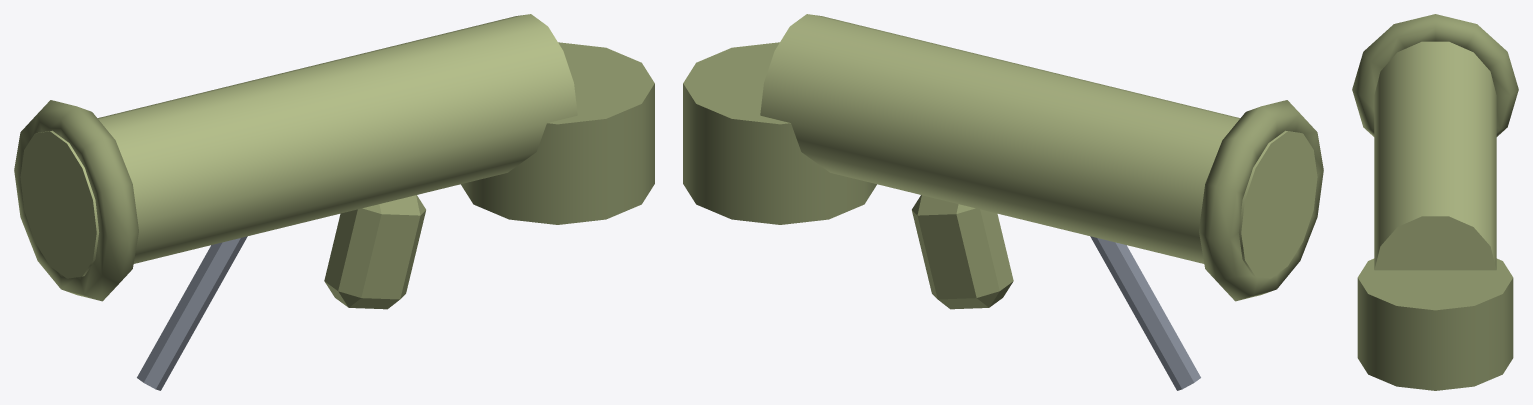
The model's file is Mortar.fbx.
3 views of the same model, side by side, from view 1: azimuth 30°, elevation 25°; view 2: azimuth 150°, elevation 25°; view 3: azimuth 270°, elevation 25° (orthographic). The views are drawn at different scales.
Visible parts, largest first — view 1: Mortar; view 2: Mortar; view 3: Mortar.
Boxes of the visible parts, box(x1,y1,x2,y2) form: Mortar: box(14, 14, 654, 390); Mortar: box(683, 14, 1323, 390); Mortar: box(1352, 14, 1518, 390).
Size of the model in its own units: 0.97 by 0.4798 by 0.3.
